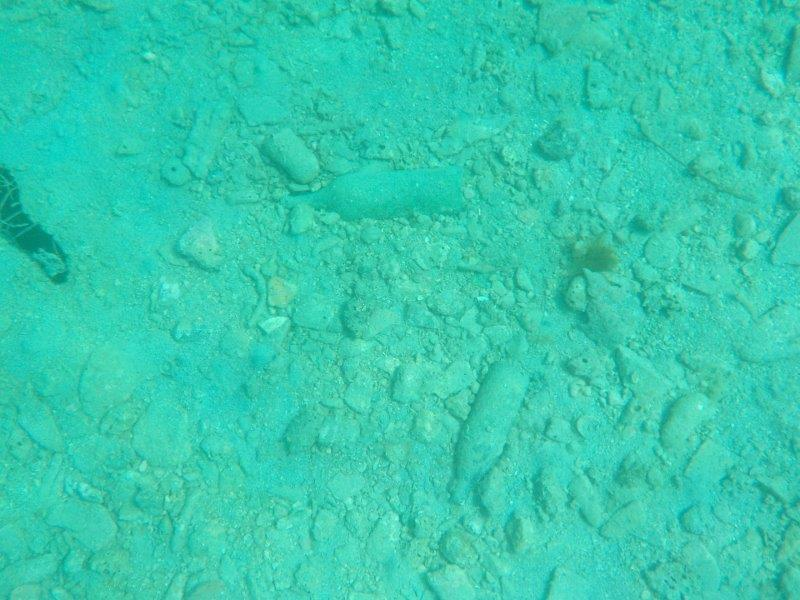bottle: (437, 359, 532, 506), (282, 161, 469, 227)
